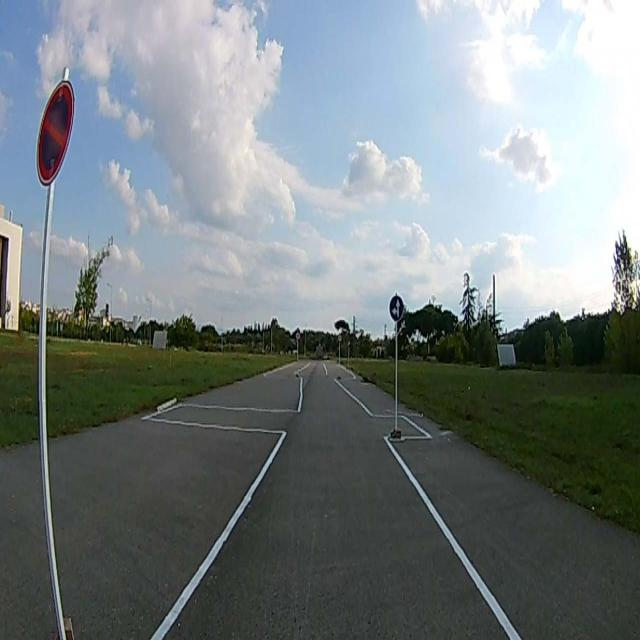ilerisol: (390, 295, 402, 322)
parkyasak: (38, 84, 72, 180)
